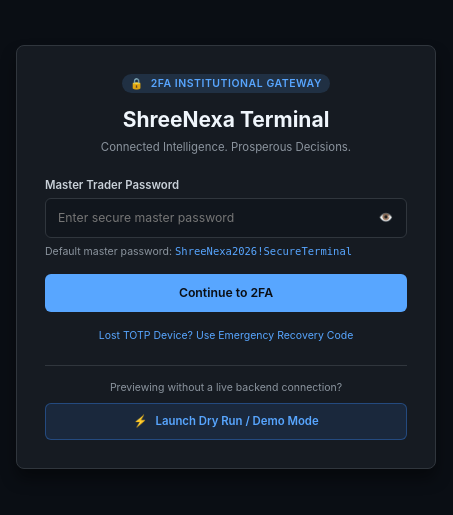
LoginView Component and 2FA Flow (QA-03) › displays error message when login fails with invalid password
The image size is (453, 515).
Type "WrongPassword" into the password field labelled "Master Trader Password". click: (226, 218)
box: [45,198,407,238]
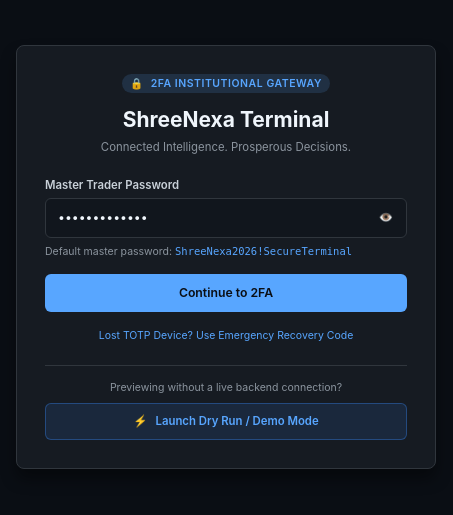
Click the button "Continue to 2FA". click: (226, 293)
box: [45,274,407,312]
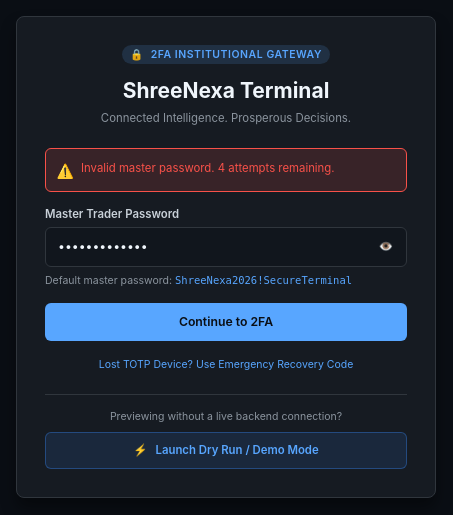
Result: the message "⚠️ Invalid master password. 4 attempts remaining." is shown at [45,148,407,192]
Result: the text "Invalid master password. 4 attempts remaining." is shown at [81,160,335,174]
